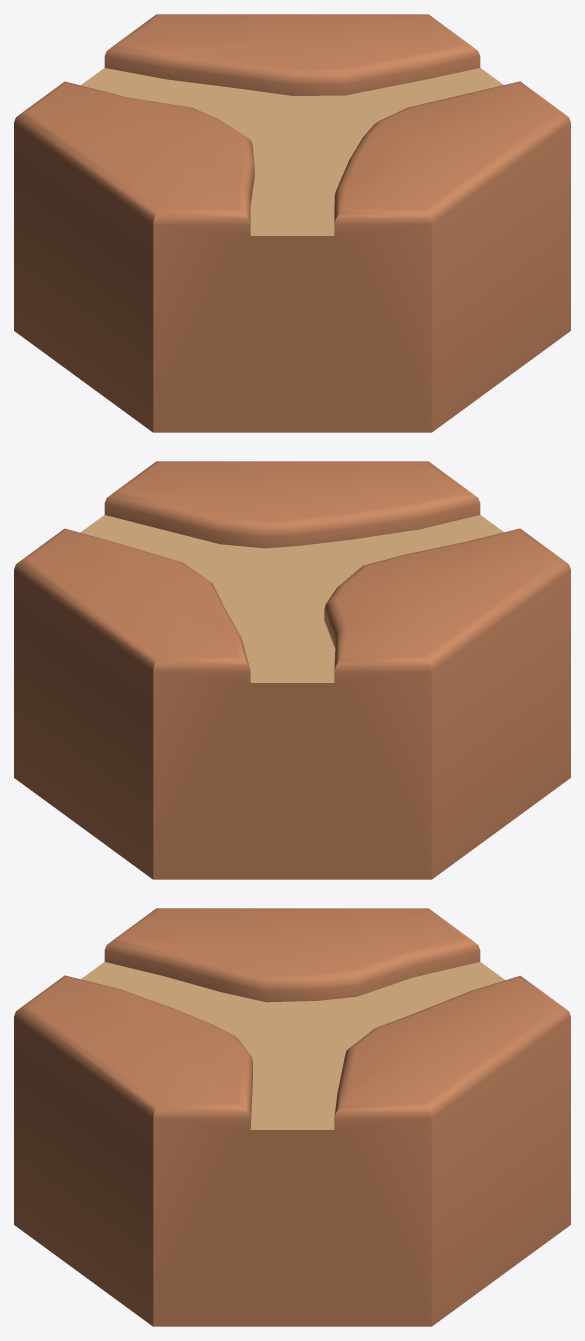
Rendered from hex_rock_roadG.glb.
3 renders of one model, top to bottom at view 1: azimuth 30°, elevation 25°; view 2: azimuth 150°, elevation 25°; view 3: azimuth 270°, elevation 25°, orthographic.
Parts seen in each view (by area): view 1: hex_rock_roadG; view 2: hex_rock_roadG; view 3: hex_rock_roadG.
Part boxes in pixels (bbox=[...]): hex_rock_roadG: bbox=[14, 14, 570, 432]; hex_rock_roadG: bbox=[14, 461, 570, 879]; hex_rock_roadG: bbox=[14, 908, 570, 1326].
Size of the model in its own units: 3.82 by 1.91 by 4.41.
